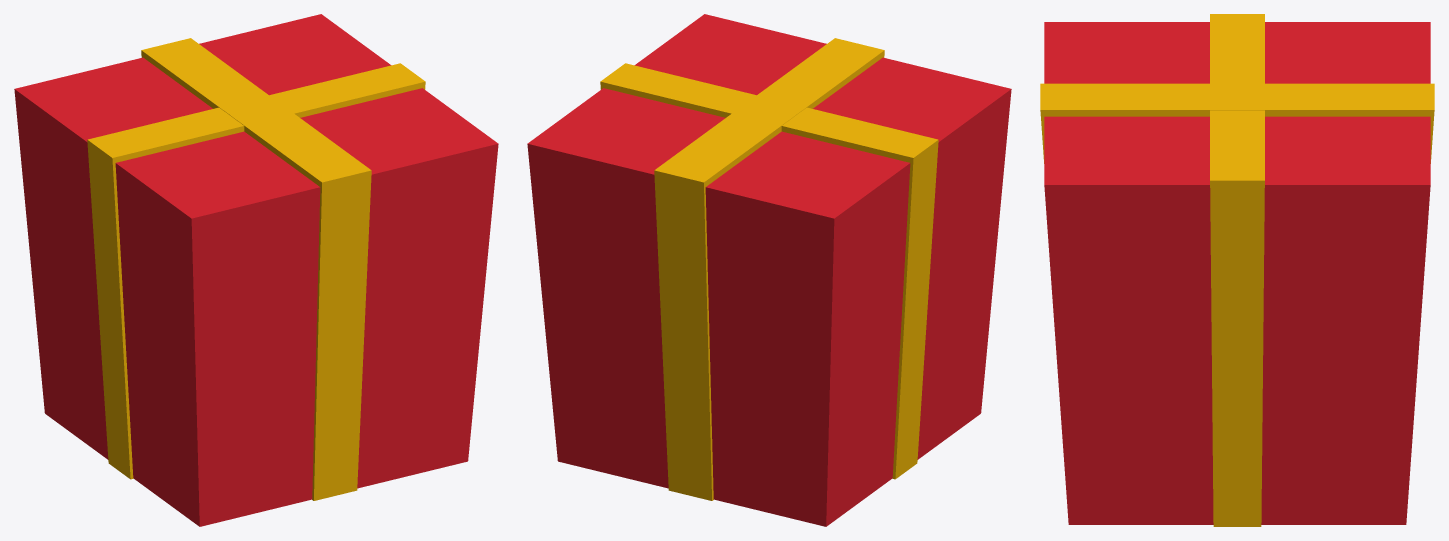
Rendered from giftbox.glb.
3 views of the same model, side by side, from view 1: azimuth 30°, elevation 25°; view 2: azimuth 150°, elevation 25°; view 3: azimuth 270°, elevation 25° (orthographic). The views are drawn at different scales.
Parts seen in each view (by area): view 1: Box, Ribbon; view 2: Box, Ribbon; view 3: Box, Ribbon.
Boxes of the visible parts, x1,y1,x2,y2 form: Box: [14, 14, 498, 526]; Ribbon: [87, 38, 425, 500]; Box: [527, 14, 1011, 526]; Ribbon: [600, 38, 938, 500]; Box: [1044, 22, 1430, 524]; Ribbon: [1040, 14, 1434, 526].
Bounding box in the file's own units: 1 × 1 × 1.
